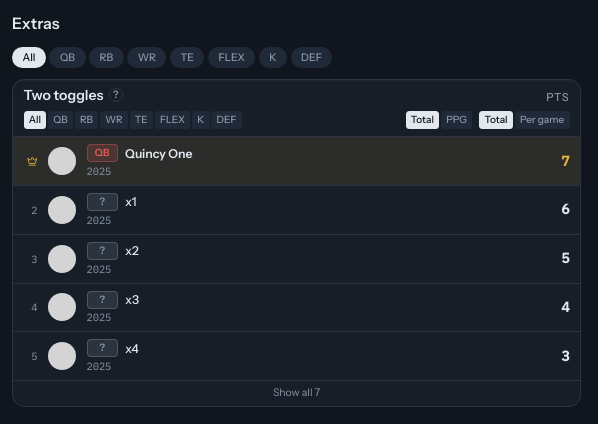
Test: Section › keeps a second mode per board and asks the definition for empty copy
The width and height of the screenshot is (598, 424).
Click the button "Per game" at (542, 120), box [515,111,570,129]
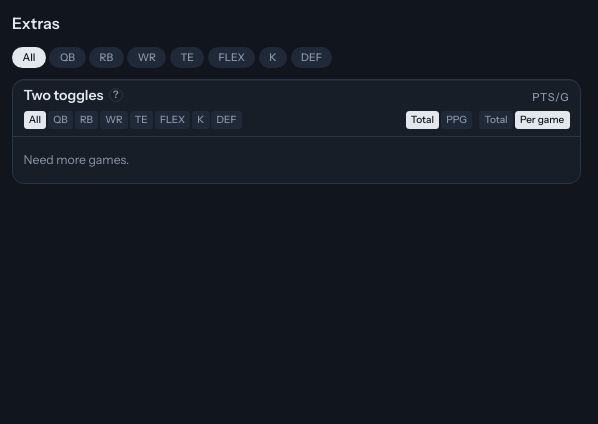
expect the text "Need more games." is shown: met, box [24,152,129,167]
expect the text "Pts/G" is shown: met, box [532,86,570,104]
Click the 2nd button "Total" at (496, 120), box [479,111,513,129]
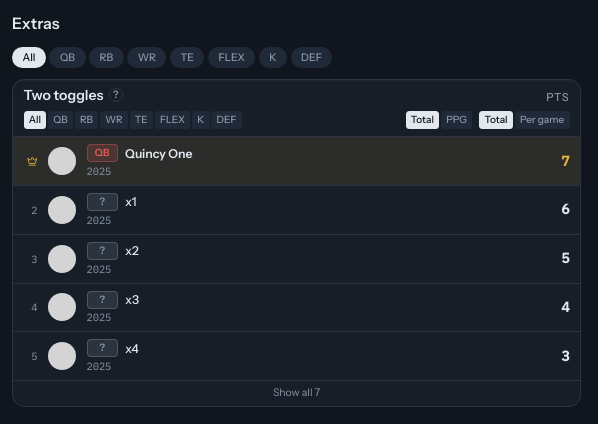
expect the number of list items is 5: met, box [13,137,580,186]; [13,186,580,235]; [13,235,580,284]; [13,284,580,332]; [13,332,580,380]
